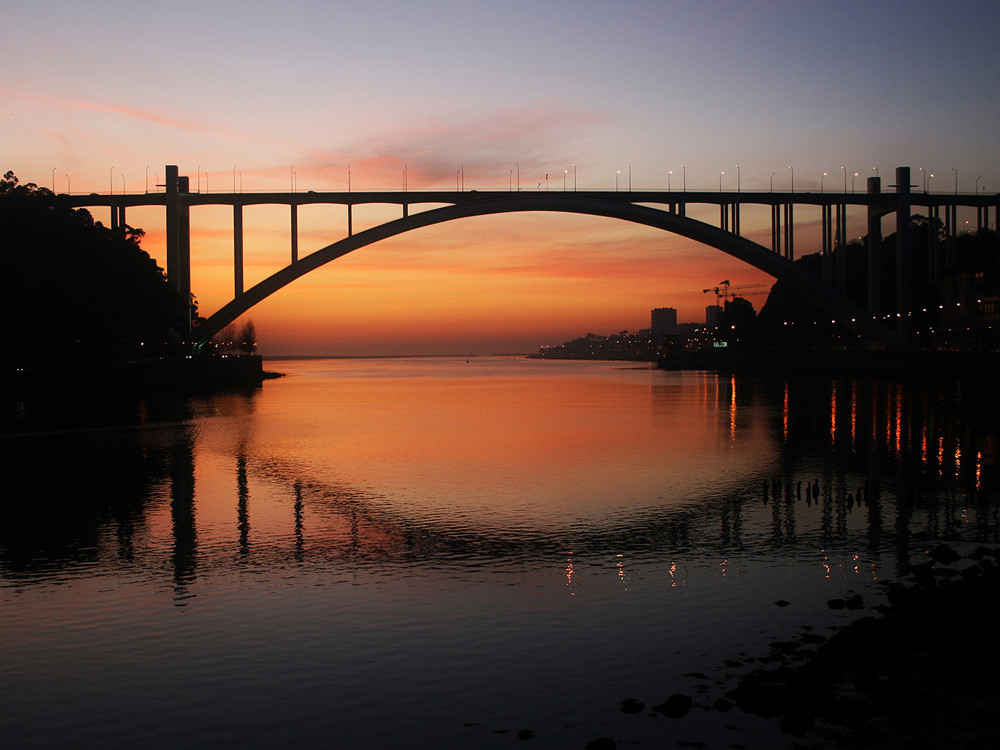arrabida: (42, 159, 999, 354)
